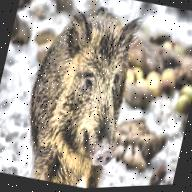boar: (12, 0, 149, 191)
